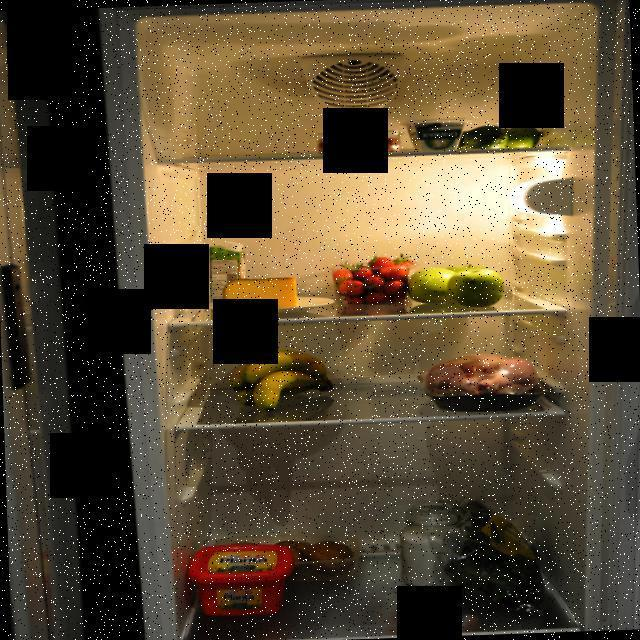apple: (406, 258, 509, 310)
butter: (188, 543, 286, 618)
cheese: (221, 274, 302, 314)
chicken: (415, 348, 548, 415)
goat_cheese: (400, 117, 472, 152)
heavy_cream: (208, 240, 248, 306)
lime: (227, 349, 336, 413), (462, 122, 540, 150)
potato: (278, 532, 362, 578)
shrimp: (321, 133, 404, 158)
spinach: (436, 504, 568, 636)
strawberries: (324, 252, 418, 307)
sugar: (396, 501, 464, 591)
